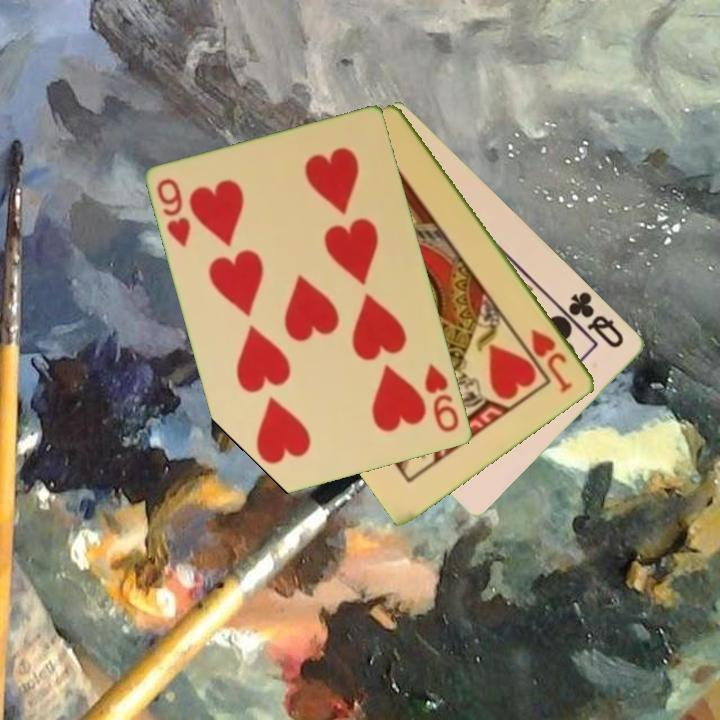9h: (421, 361, 463, 436), (153, 175, 194, 251)
Jh: (527, 325, 576, 396)
Qc: (557, 287, 628, 351)
